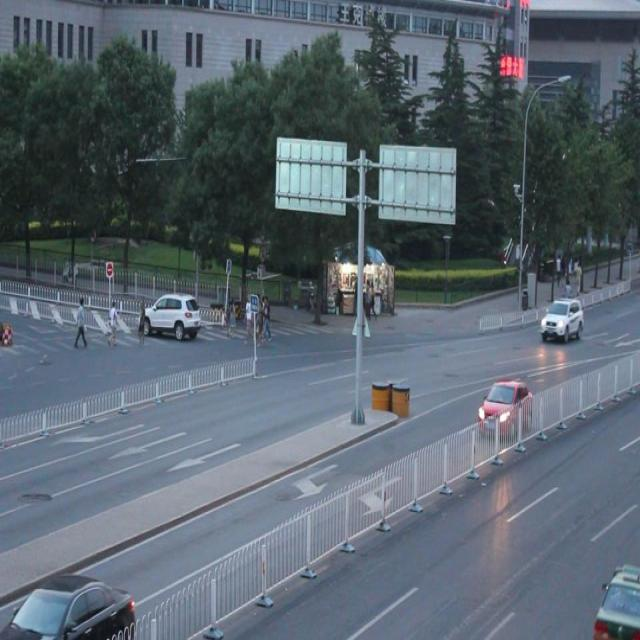car: (1, 569, 136, 629), (589, 556, 640, 640), (478, 379, 533, 433), (139, 292, 201, 339), (540, 297, 582, 345)
